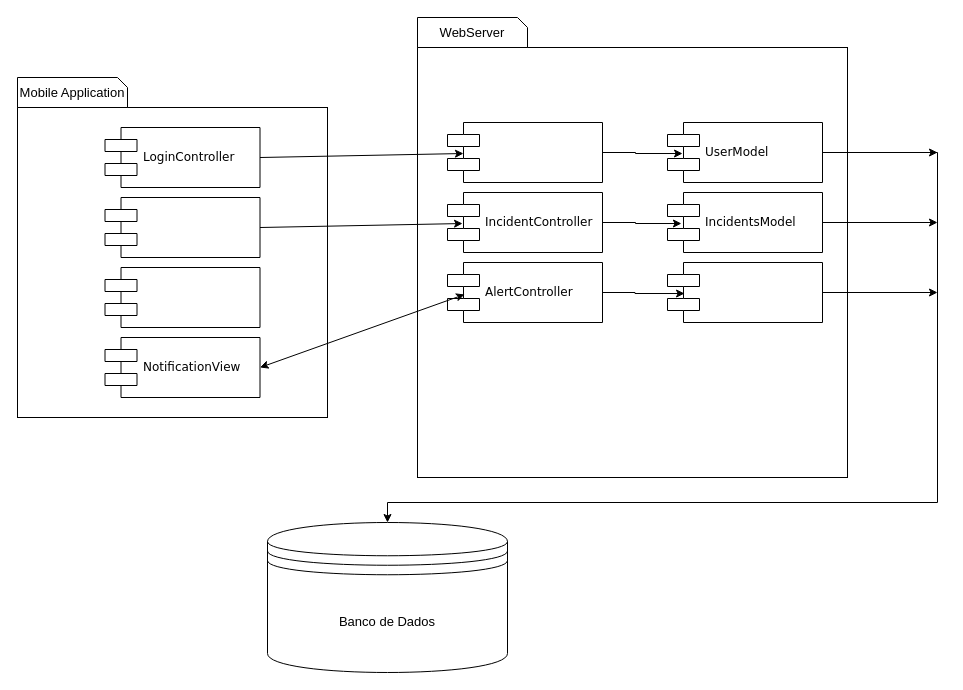
Some shapes in this 963 by 690 pixel diagram are drawn without their labels. The shapes that lost their labels are listed below. From the top down, each one's centre as x and y in pixels, then its label:
(x=524, y=152): SessionController
(x=182, y=227): PublicationView
(x=182, y=297): MapView
(x=744, y=292): RegionRisk ClassificationModel
